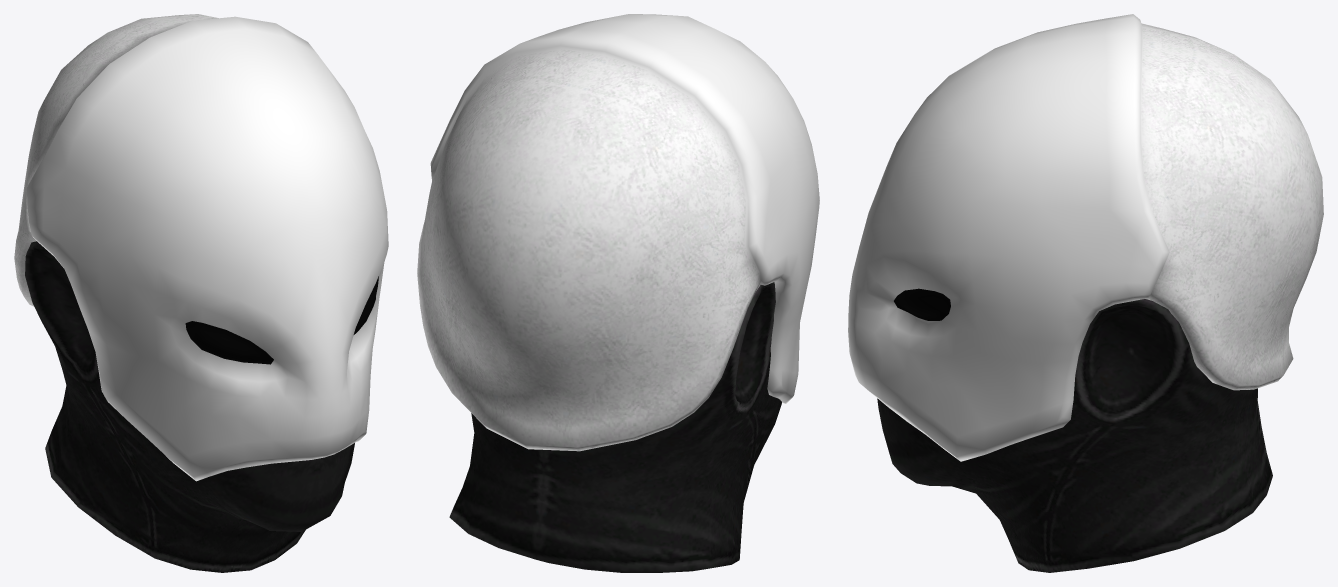
File: SurvivorMale_Head_Mask_Zodiac_LOD0.glb
The picture shows the model from 3 angles, left to right: view 1: azimuth 30°, elevation 25°; view 2: azimuth 150°, elevation 25°; view 3: azimuth 270°, elevation 25°; orthographic projection. The views are drawn at different scales.
Visible parts, largest first — view 1: Hoodie; view 2: Hoodie; view 3: Hoodie.
Part boxes in pixels (left/top/right/bottom): Hoodie: left=14, top=14, right=388, bottom=572; Hoodie: left=417, top=14, right=819, bottom=572; Hoodie: left=848, top=14, right=1323, bottom=572.
Size of the model in its own units: 0.1893 by 0.2924 by 0.2428.
Materials: 1 (1 with a texture image).
